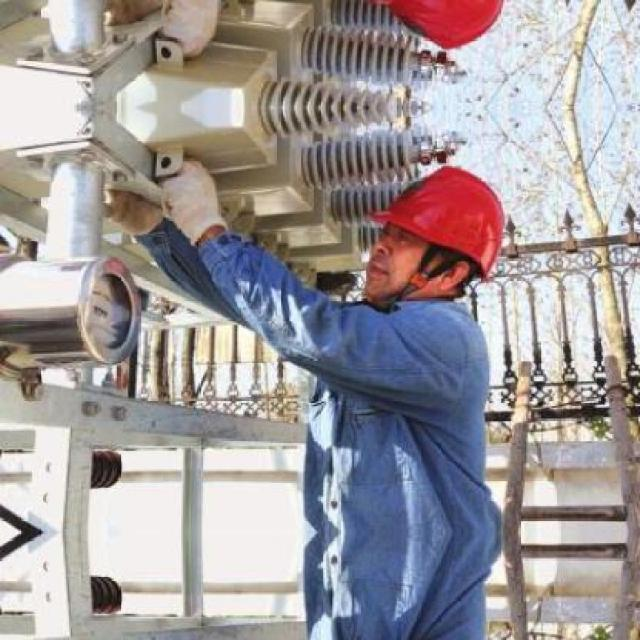helmet: (350, 150, 521, 312), (349, 0, 522, 65)
